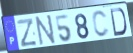5: (54, 13, 73, 43)
8: (74, 13, 90, 40)
C: (91, 10, 111, 39)
D: (109, 7, 128, 38)
N: (35, 14, 57, 47)
Z: (16, 18, 38, 49)
